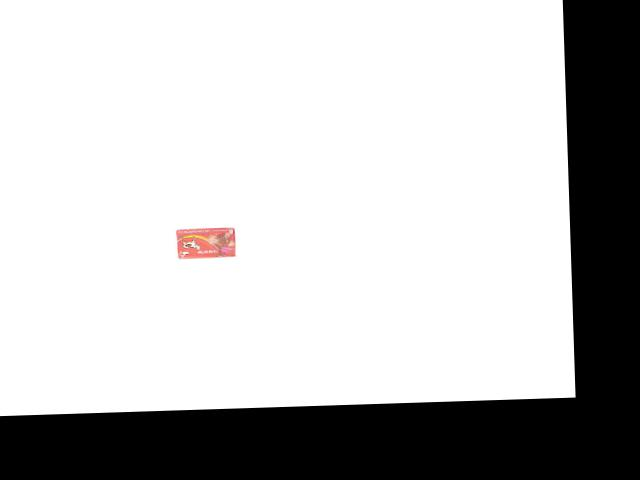chocolate: (172, 224, 236, 258)
